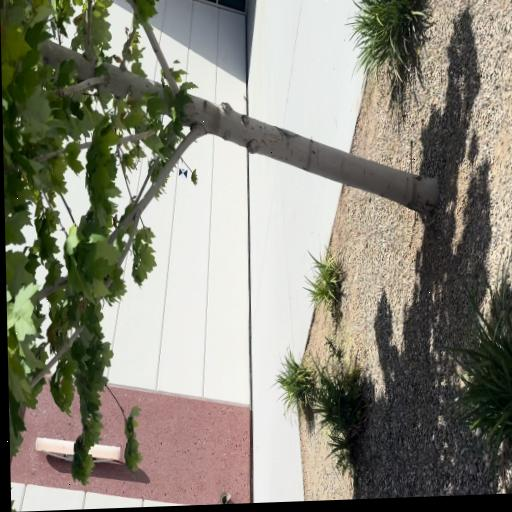target4: (178, 168, 188, 178)
